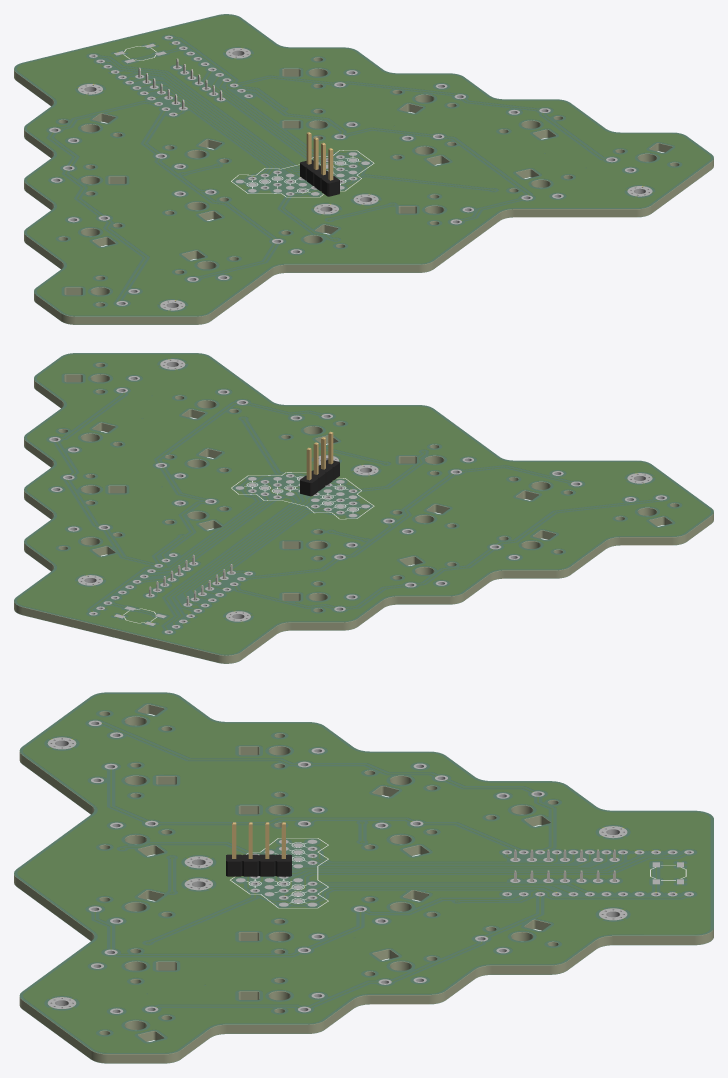
File: board.glb
The picture shows the model from 3 angles, top to bottom: view 1: azimuth 30°, elevation 25°; view 2: azimuth 150°, elevation 25°; view 3: azimuth 270°, elevation 25°; orthographic projection. The views are drawn at different scales.
Parts seen in each view (by area): view 1: board_soldermask (×2), board_copper, board_PCB, board_pad, PinHeader_1x04_P254mm_Vertical, board_silkscreen; view 2: board_soldermask (×2), board_copper, board_PCB, board_pad, PinHeader_1x04_P254mm_Vertical, board_silkscreen; view 3: board_soldermask (×2), board_copper, board_PCB, board_pad, PinHeader_1x04_P254mm_Vertical, board_silkscreen.
Part boxes in pixels (<box>): board_soldermask (×2): <box>14,14,713,324</box>; board_copper: <box>17,16,710,314</box>; board_PCB: <box>14,15,713,324</box>; board_pad: <box>49,36,652,310</box>; PinHeader_1x04_P254mm_Vertical: <box>300,132,339,196</box>; board_silkscreen: <box>123,46,374,197</box>; board_soldermask (×2): <box>14,353,713,663</box>; board_copper: <box>17,355,710,653</box>; board_PCB: <box>14,354,713,663</box>; board_pad: <box>49,359,666,633</box>; PinHeader_1x04_P254mm_Vertical: <box>300,431,339,496</box>; board_silkscreen: <box>123,472,374,623</box>; board_soldermask (×2): <box>14,692,713,1063</box>; board_copper: <box>18,694,709,1052</box>; board_PCB: <box>14,693,713,1063</box>; board_pad: <box>47,720,693,1013</box>; PinHeader_1x04_P254mm_Vertical: <box>226,822,291,876</box>; board_silkscreen: <box>230,838,686,908</box>.
Bounding box in the file's own units: 0.1315 × 0.0139 × 0.1075.
